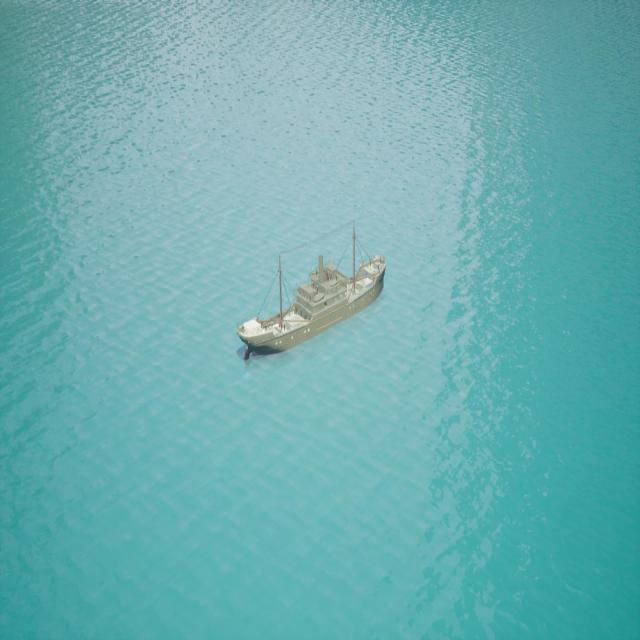fishing ship: (237, 220, 389, 361)
